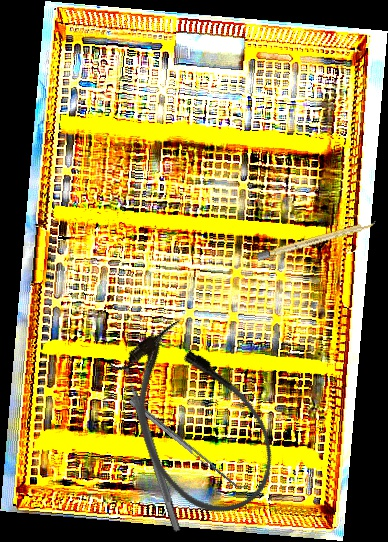Cannula: (99, 307, 295, 534)
Fixation Ring: (107, 354, 191, 536)
Scalpel Handle: (256, 219, 378, 261)
Spatula Surgical: (128, 393, 249, 495)
